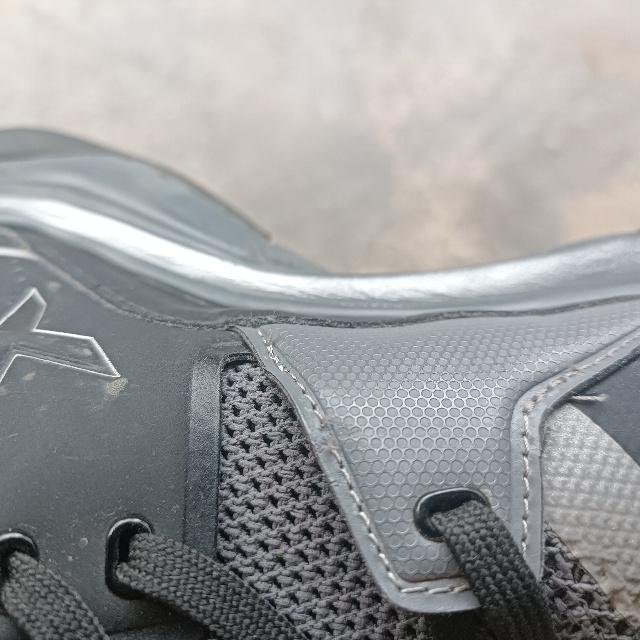broken: (315, 417, 340, 465)
